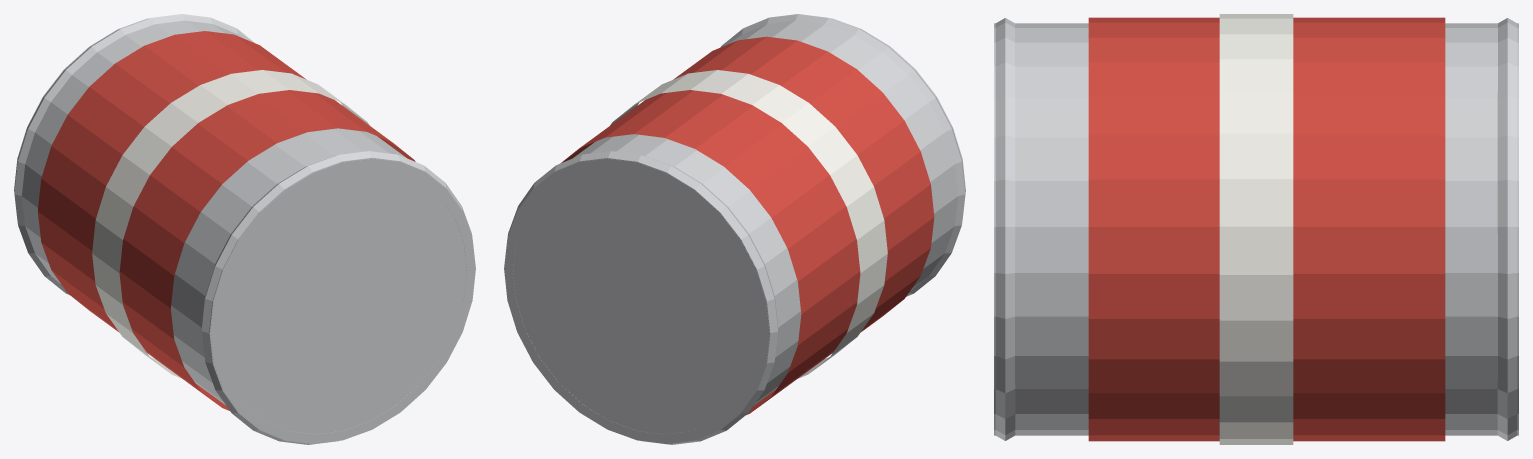
The model's file is can_0.obj.
3 views of the same model, side by side, from view 1: azimuth 30°, elevation 25°; view 2: azimuth 150°, elevation 25°; view 3: azimuth 270°, elevation 25° (orthographic). The views are drawn at different scales.
Bounding box in the file's own units: 0.115 × 0.115 × 0.1401.
